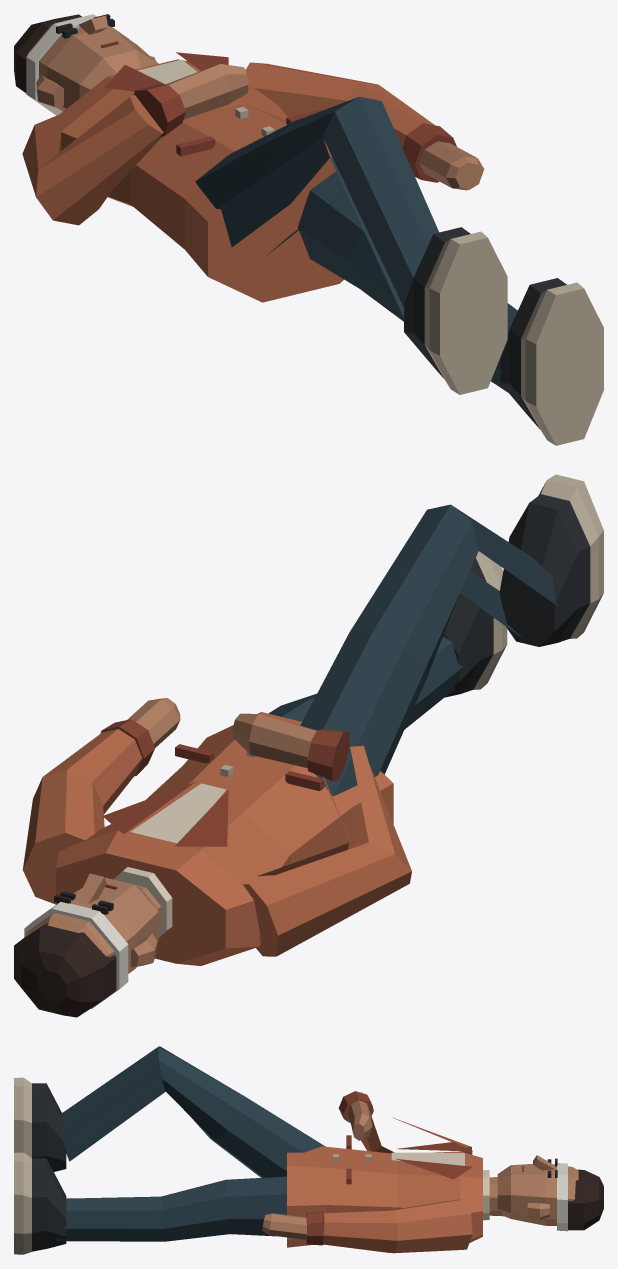
File: patient.glb
The picture shows the model from 3 angles, top to bottom: view 1: azimuth 30°, elevation 25°; view 2: azimuth 150°, elevation 25°; view 3: azimuth 270°, elevation 25°; orthographic projection. The views are drawn at different scales.
Visible parts, largest first — view 1: InjuredPatient; view 2: InjuredPatient; view 3: InjuredPatient.
Part boxes in pixels (box(x1,y1,x2,y2)): InjuredPatient: box(14, 14, 603, 445); InjuredPatient: box(14, 474, 603, 1017); InjuredPatient: box(14, 1046, 603, 1254).
Size of the model in its own units: 0.7962 by 0.5923 by 1.81.
